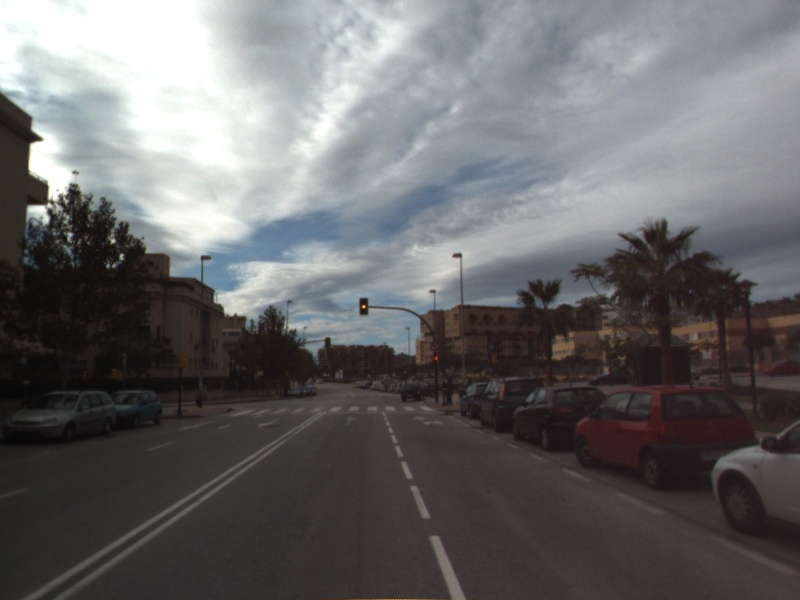STRAIGHT: (340, 413, 360, 427)
STRAIGHT_RIGHT: (410, 413, 447, 428)
